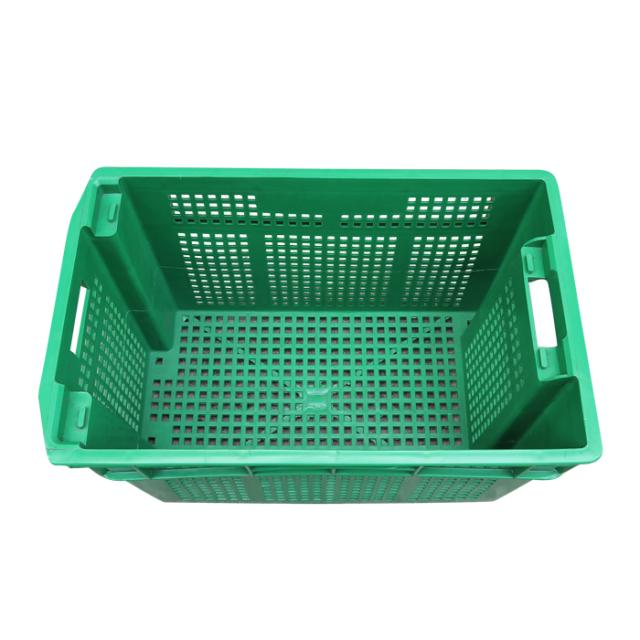basket: (39, 167, 604, 506)
